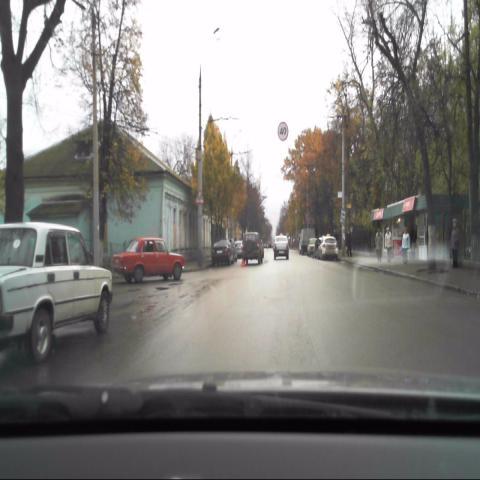1_23: (196, 190, 204, 204)
3_24: (278, 122, 289, 141)
5_16: (339, 208, 345, 224)
